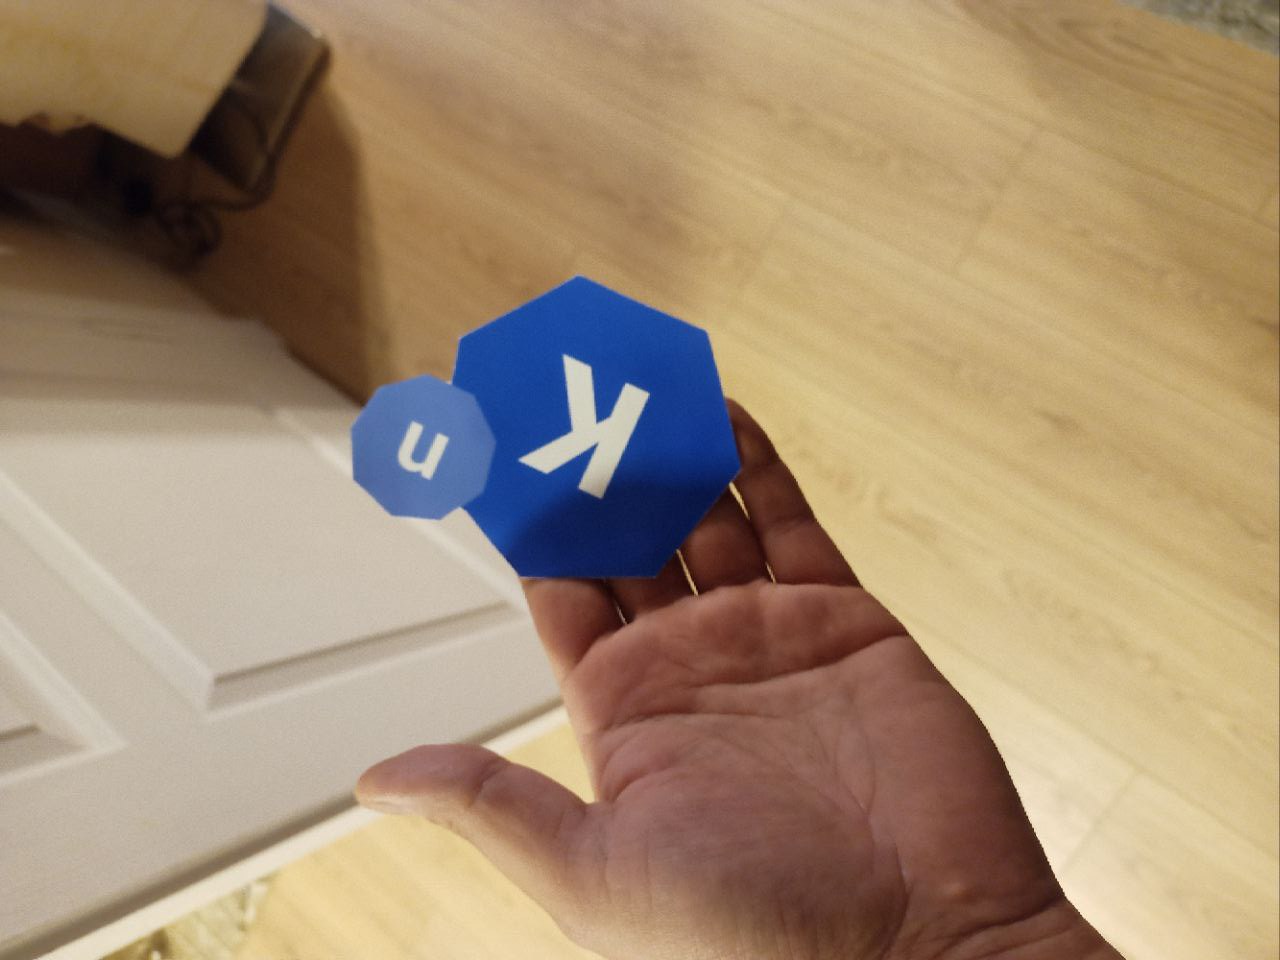knative: (348, 272, 743, 582)
